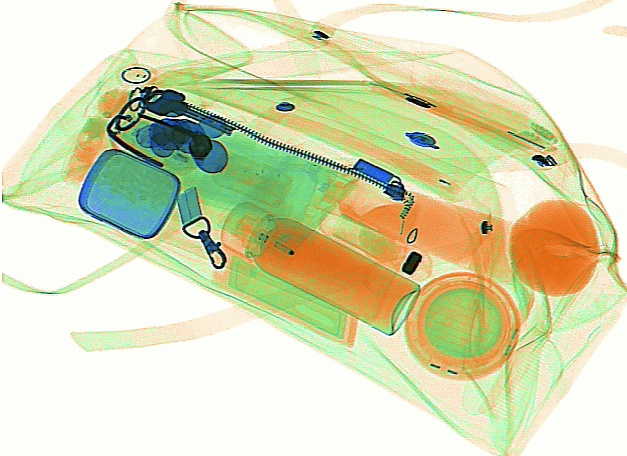pressure: (211, 198, 421, 334)
